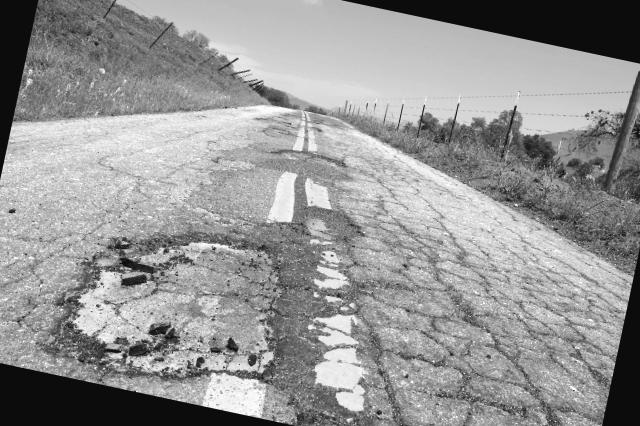Pothole: (242, 120, 360, 190)
